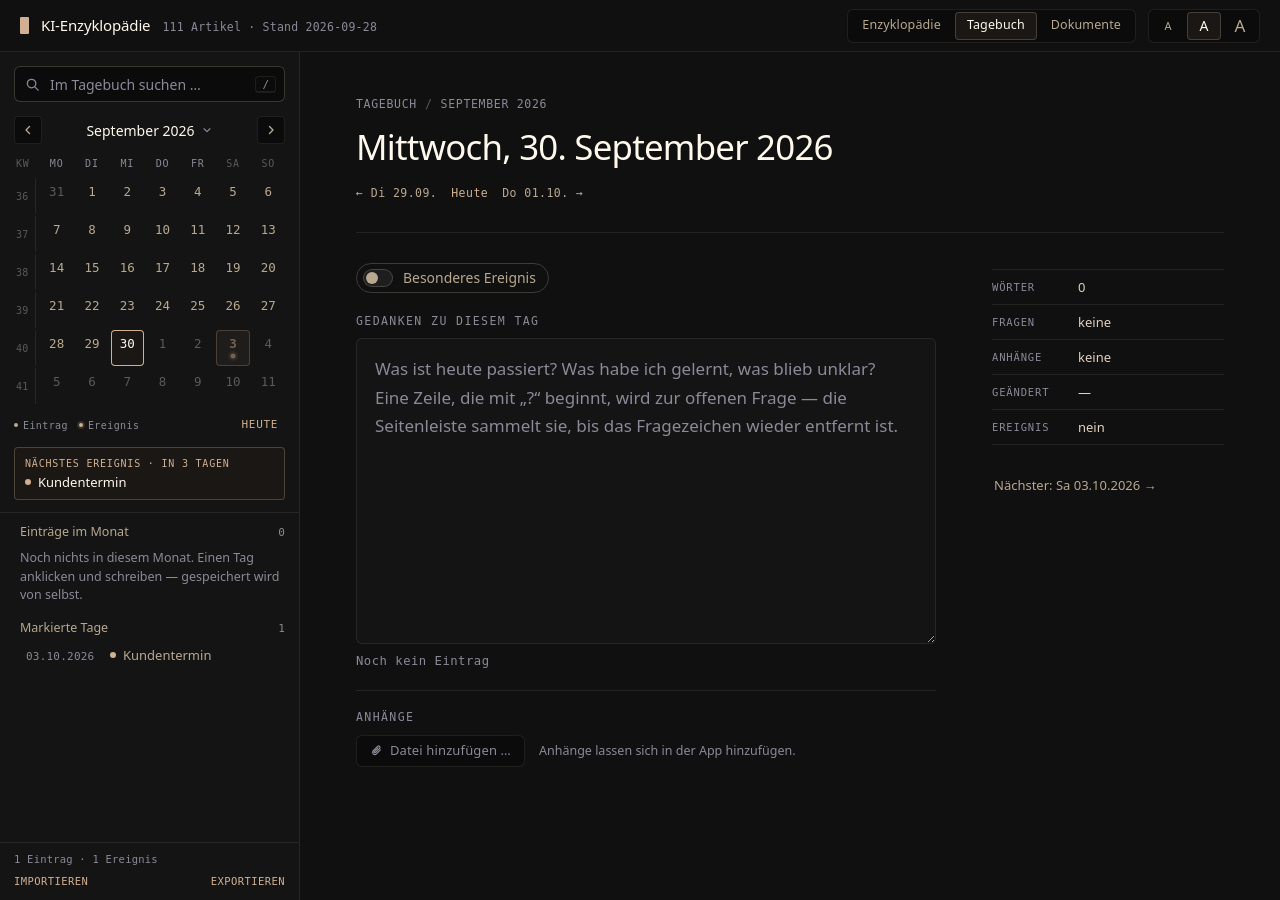
Test: Tagebuch › weist auf das nächste Ereignis hin und exportiert als Markdown-Download
This screenshot has width=1280, height=900.
Click the button "Exportieren": point(248, 882) x1=204 y1=872 x2=292 y2=892
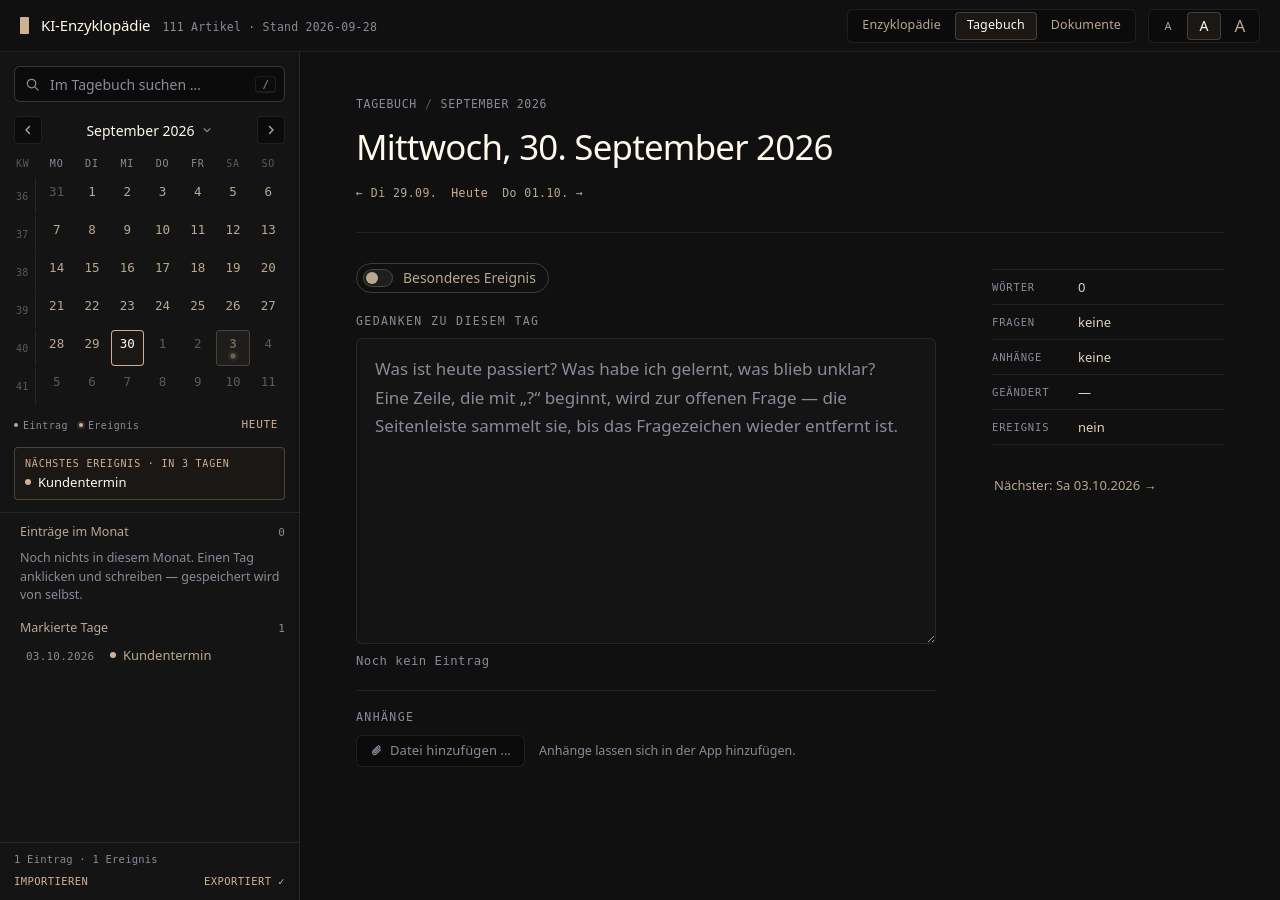
Check: the button "Exportiert ✓" is shown, box x1=197 y1=872 x2=292 y2=892
